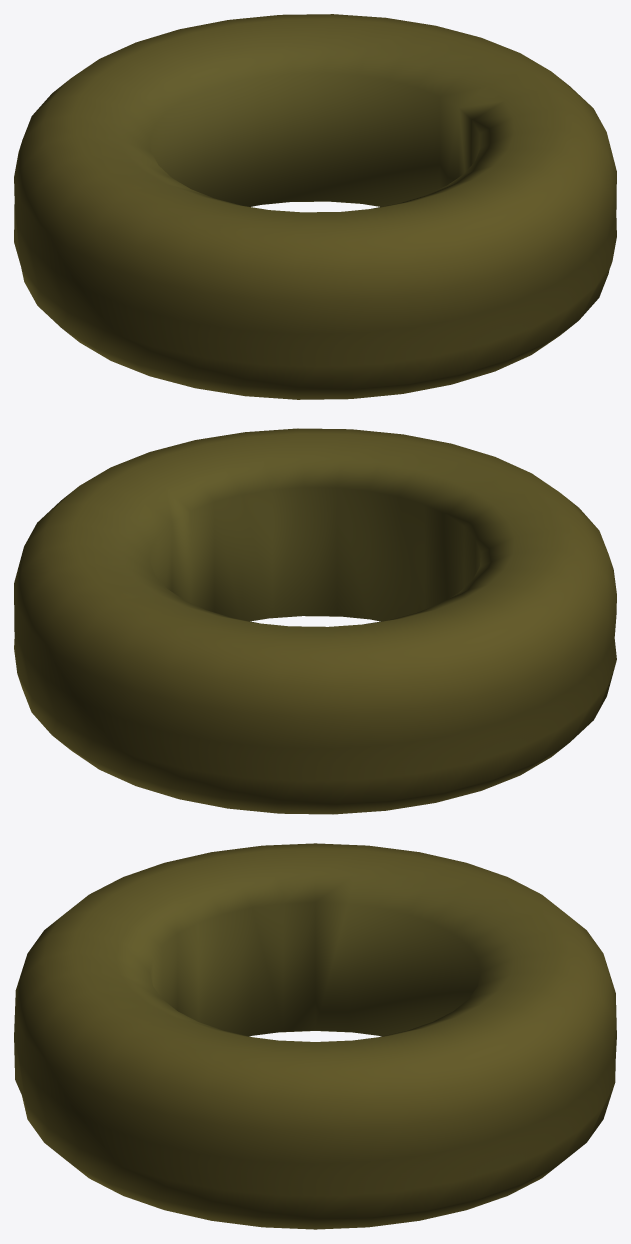
Rendered from The tire is yellow.fbx.
3 views of the same model, one above another, from view 1: azimuth 30°, elevation 25°; view 2: azimuth 150°, elevation 25°; view 3: azimuth 270°, elevation 25° (orthographic).
Visible parts, largest first — view 1: The tire is yellow; view 2: The tire is yellow; view 3: The tire is yellow.
Boxes of the visible parts, left/top/right/bottom form: The tire is yellow: left=14, top=14, right=616, bottom=399; The tire is yellow: left=14, top=428, right=616, bottom=814; The tire is yellow: left=14, top=843, right=616, bottom=1229.
Bounding box in the file's own units: 254 × 78.99 × 254.
